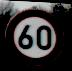Speed Limit -60-: (3, 6, 65, 68)
